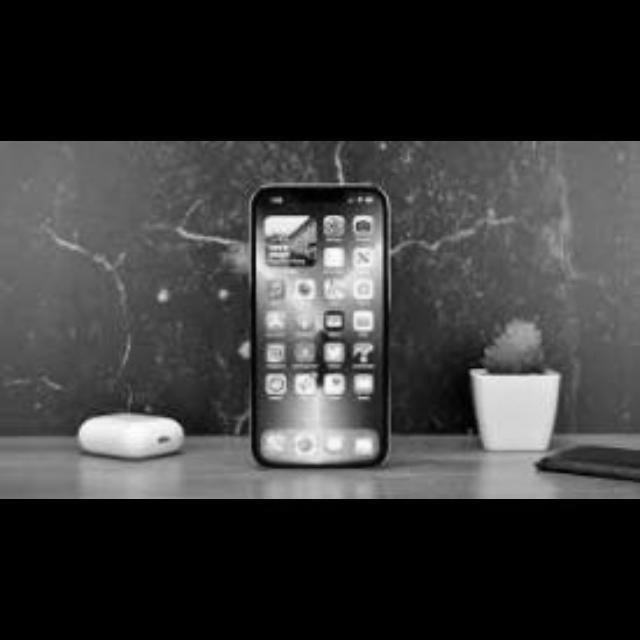fake: (218, 172, 413, 489)
